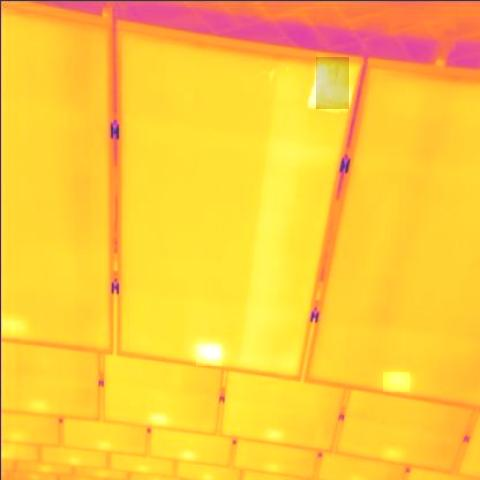fault: (316, 57, 349, 110), (196, 344, 222, 366), (383, 372, 410, 392)
